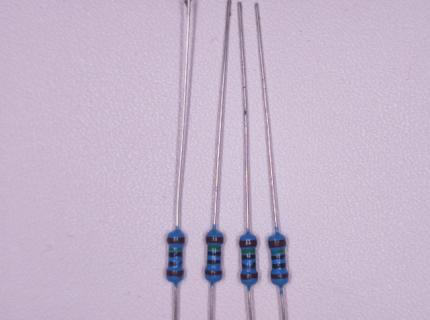Black band: (242, 262, 255, 269), (272, 263, 285, 270), (168, 261, 183, 267), (271, 254, 285, 260), (168, 252, 182, 257), (207, 251, 221, 256), (242, 255, 255, 260), (207, 260, 221, 264)
Brown band: (166, 270, 184, 278), (269, 239, 285, 248), (167, 237, 185, 244), (239, 240, 257, 247), (241, 273, 258, 280), (271, 273, 289, 279), (207, 237, 223, 243), (205, 270, 222, 275)
Green band: (271, 249, 285, 254), (169, 247, 182, 251), (242, 249, 255, 253), (208, 246, 221, 249)
